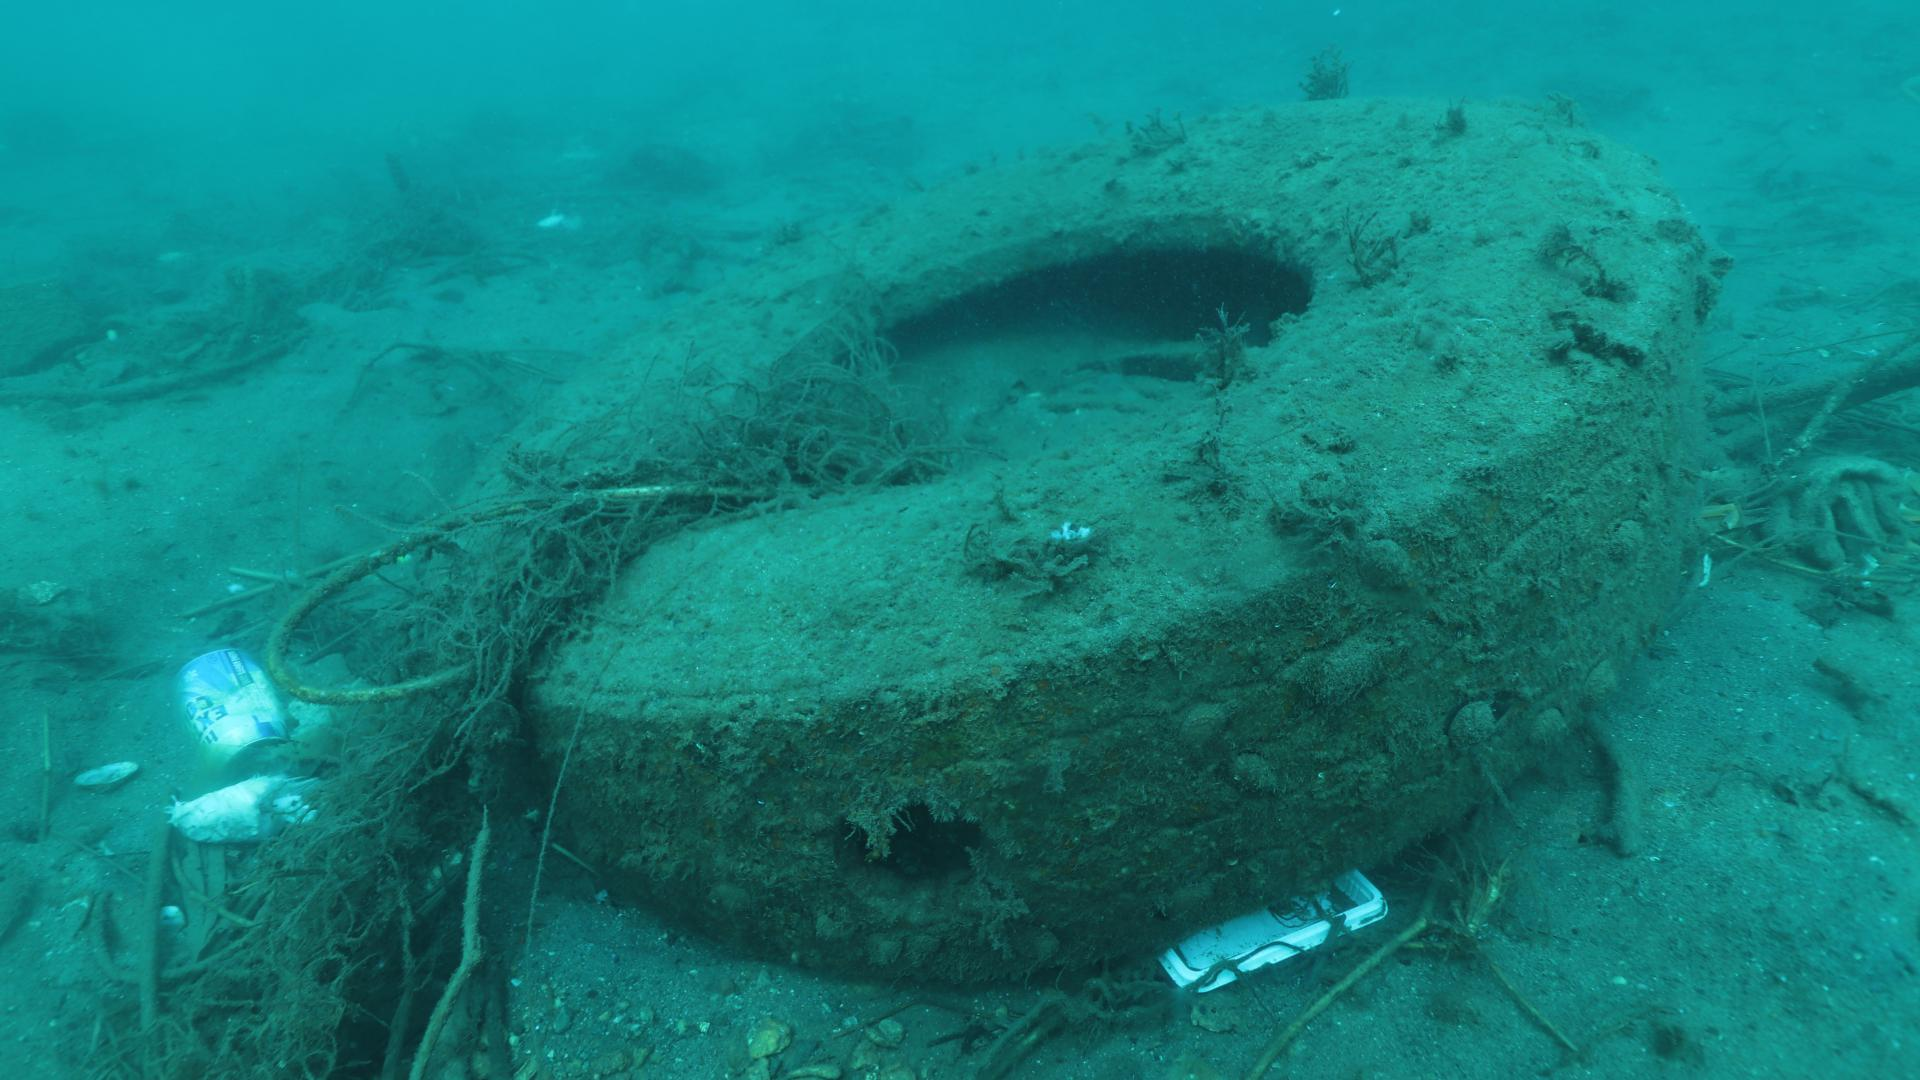tire: (425, 90, 1706, 996)
